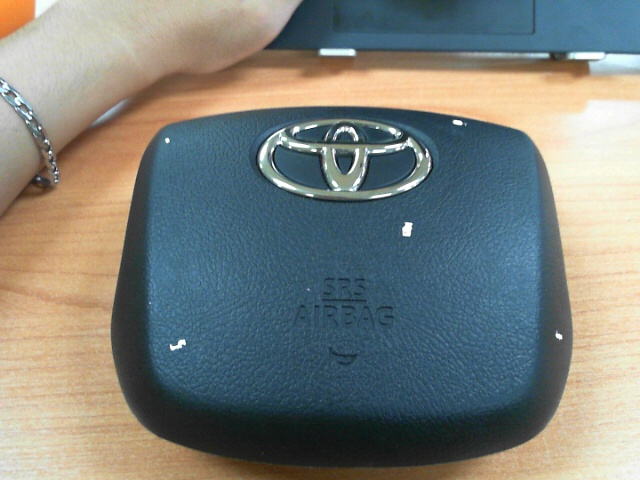Airbag: (401, 220, 414, 238), (169, 338, 186, 351), (452, 119, 468, 127), (554, 330, 563, 342), (165, 137, 171, 144)
